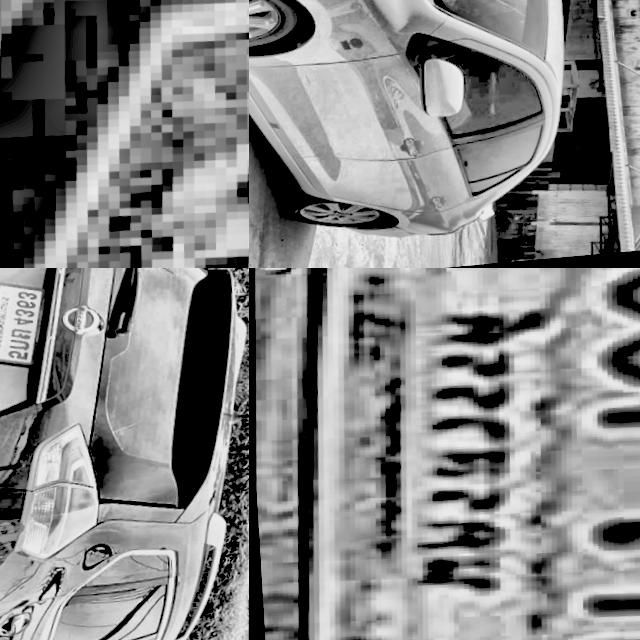license-plate: (263, 268, 640, 640), (0, 0, 249, 268), (0, 284, 51, 380)
